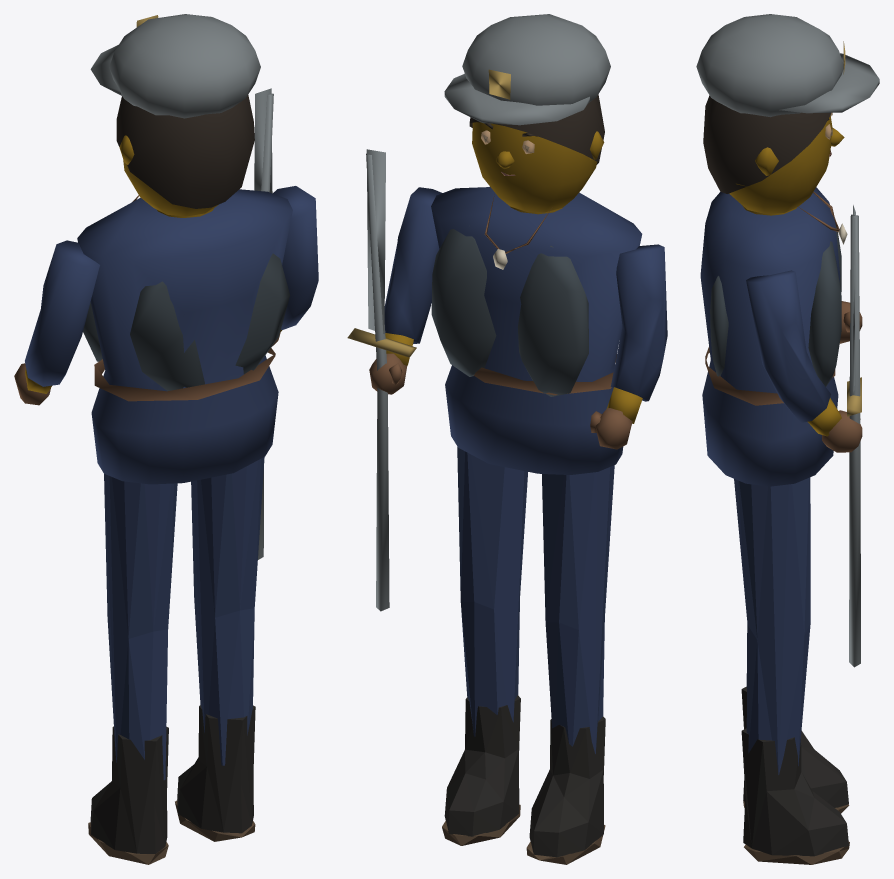
File: SM_NPC_ROCA_MEDIA.glb
3 renders of one model, left to right at view 1: azimuth 30°, elevation 25°; view 2: azimuth 150°, elevation 25°; view 3: azimuth 270°, elevation 25°, orthographic. The views are drawn at different scales.
Parts seen in each view (by area): view 1: SM_NPC_ROCA_BODY, SM_NPC_ROCA_HEAD, SM_NPC_ROCA_ARM_L, SM_NPC_ROCA_ARM_R; view 2: SM_NPC_ROCA_BODY, SM_NPC_ROCA_HEAD, SM_NPC_ROCA_ARM_R, SM_NPC_ROCA_ARM_L; view 3: SM_NPC_ROCA_BODY, SM_NPC_ROCA_HEAD, SM_NPC_ROCA_ARM_R, SM_NPC_ROCA_ARM_L.
Part boxes in pixels (x1,y1,x2,y2): SM_NPC_ROCA_BODY: (77,189,292,864); SM_NPC_ROCA_HEAD: (90,14,260,216); SM_NPC_ROCA_ARM_L: (14,240,99,405); SM_NPC_ROCA_ARM_R: (254,88,318,559); SM_NPC_ROCA_BODY: (431,187,642,864); SM_NPC_ROCA_HEAD: (444,14,610,212); SM_NPC_ROCA_ARM_R: (347,149,442,611); SM_NPC_ROCA_ARM_L: (590,244,667,449); SM_NPC_ROCA_BODY: (700,187,849,864); SM_NPC_ROCA_HEAD: (696,14,879,213); SM_NPC_ROCA_ARM_R: (746,205,862,667); SM_NPC_ROCA_ARM_L: (839,301,862,343).
Size of the model in its own units: 0.7216 by 1.97 by 0.4062.
